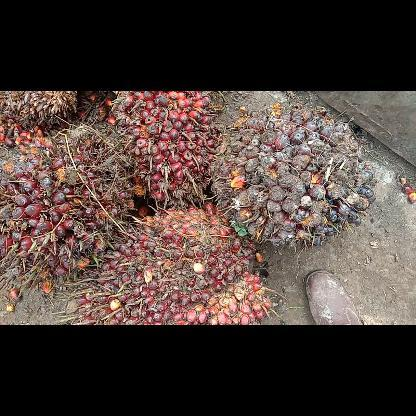Kurang masak: (206, 100, 380, 252)
TBS masak: (74, 200, 274, 324), (0, 121, 135, 298), (106, 90, 222, 208)
